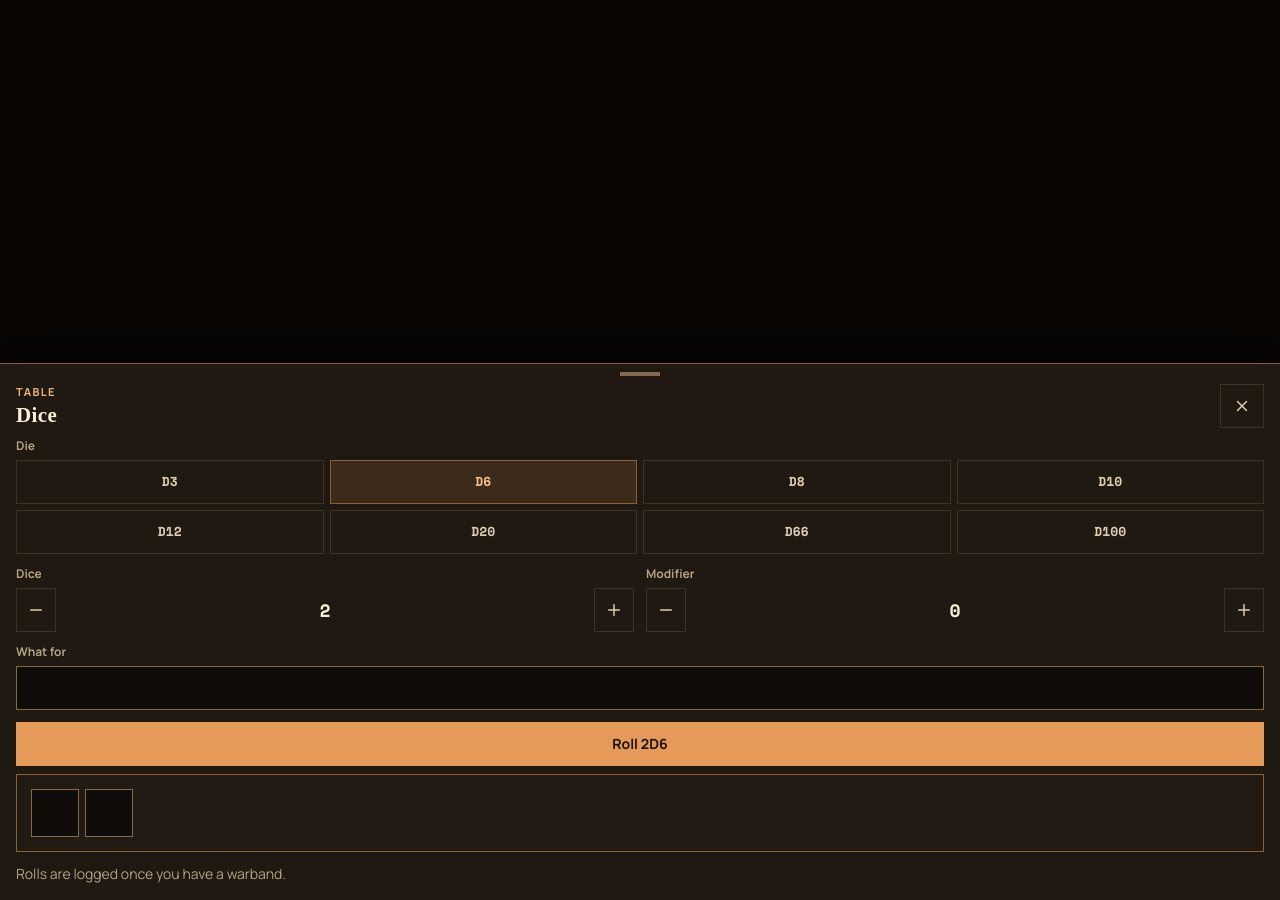
Test: DicePanel › shows a roll's faces once, in the boxes, with the total beside them
The width and height of the screenshot is (1280, 900).
Step 1. Click the button "Roll 2D6" → click(640, 744), box [16,722,1264,766]
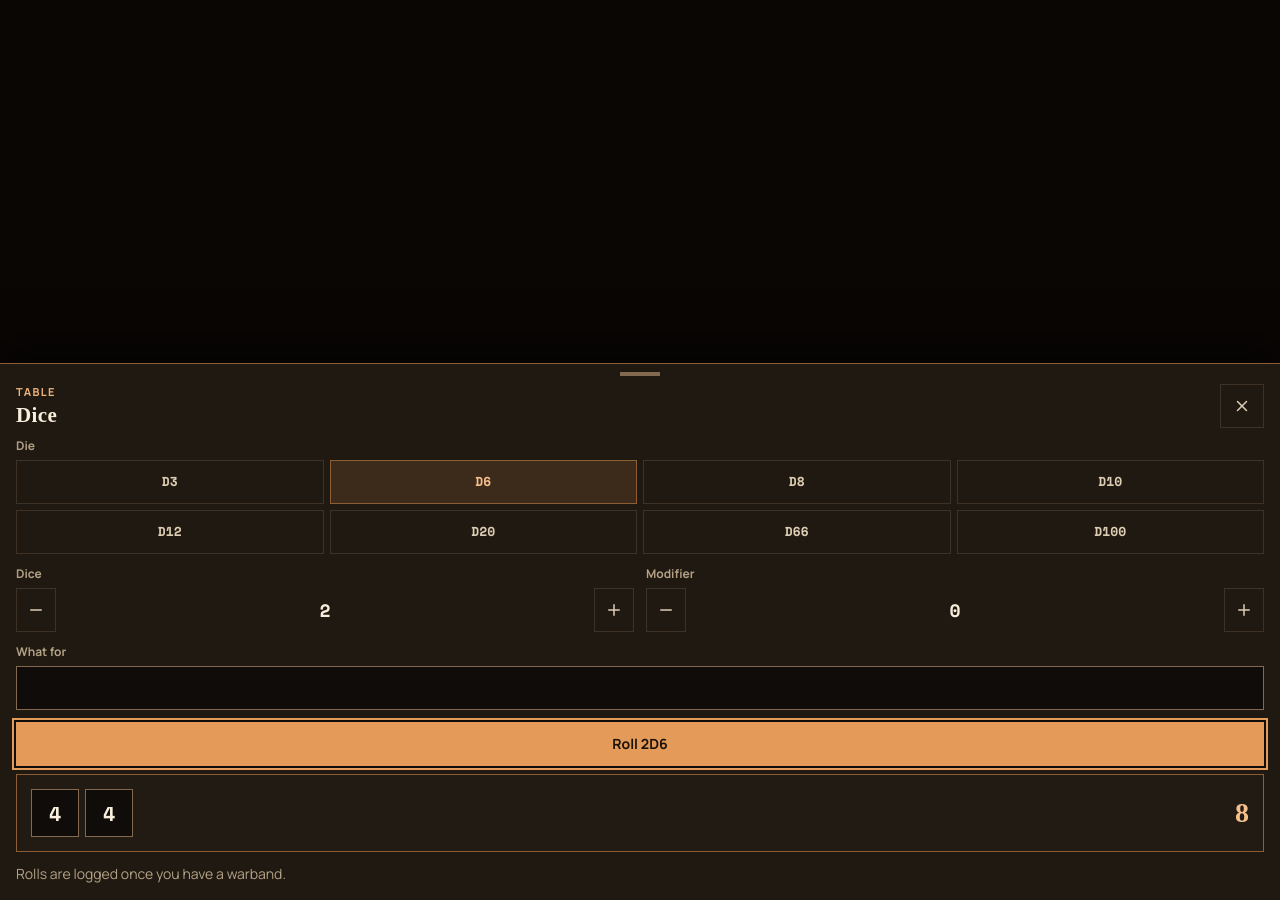
Now the field named "First D6 rolled" holds "4", box [31,789,79,837]
Now the field named "Second D6 rolled" holds "4", box [85,789,133,837]
Now the text "8" is shown, box [1235,792,1249,834]
